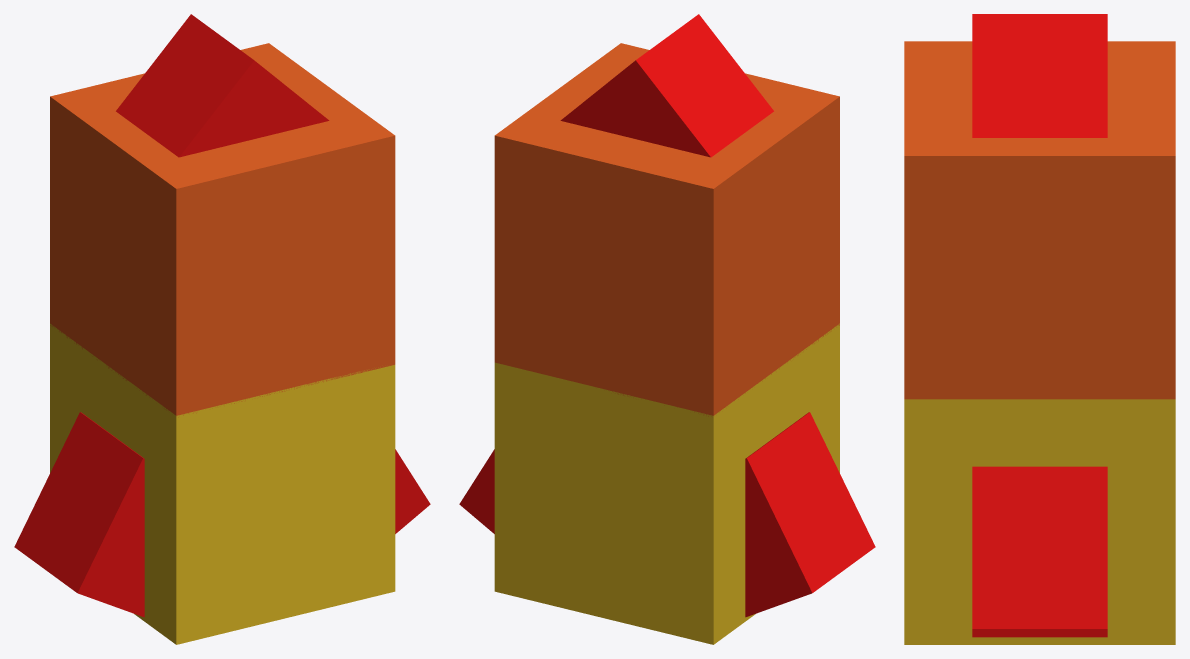
Rendered from Shuttle.fbx.
3 renders of one model, left to right at view 1: azimuth 30°, elevation 25°; view 2: azimuth 150°, elevation 25°; view 3: azimuth 270°, elevation 25°, orthographic. The views are drawn at different scales.
Visible parts, largest first — view 1: Shuttle; view 2: Shuttle; view 3: Shuttle.
Boxes of the visible parts, x1=… form: Shuttle: x1=14, y1=14, x2=430, y2=644; Shuttle: x1=459, y1=14, x2=875, y2=644; Shuttle: x1=904, y1=14, x2=1175, y2=644.
Size of the model in its own units: 323 by 488 by 200.
